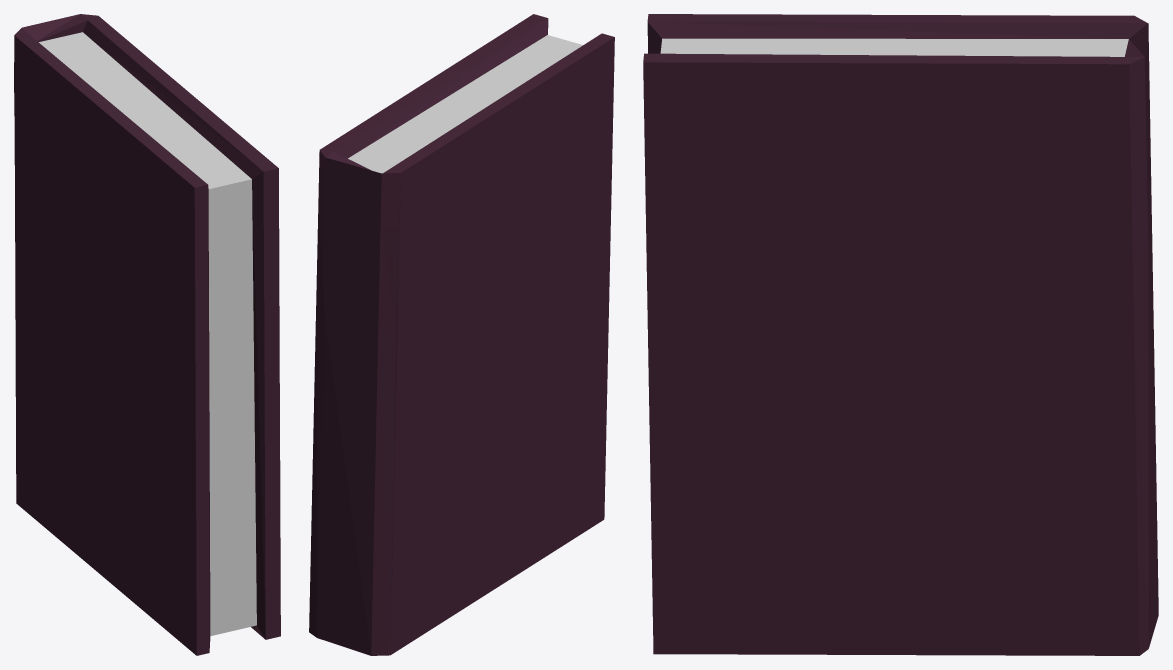
The model's file is dark_purple_book.glb.
3 views of the same model, side by side, from view 1: azimuth 30°, elevation 25°; view 2: azimuth 150°, elevation 25°; view 3: azimuth 270°, elevation 25° (orthographic). The views are drawn at different scales.
Visible parts, largest first — view 1: book_set.002; view 2: book_set.002; view 3: book_set.002.
Boxes of the visible parts, x1=… form: book_set.002: x1=14, y1=14, x2=280, y2=655; book_set.002: x1=309, y1=14, x2=614, y2=655; book_set.002: x1=643, y1=14, x2=1158, y2=655.
Size of the model in its own units: 0.0622 by 0.2762 by 0.2163.
